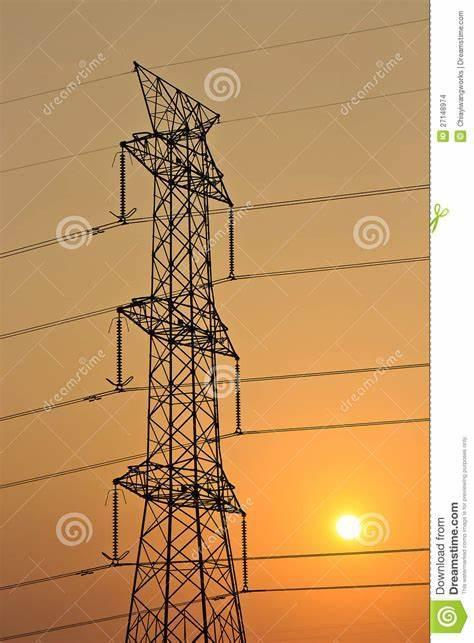power_tower: (102, 55, 269, 643)
